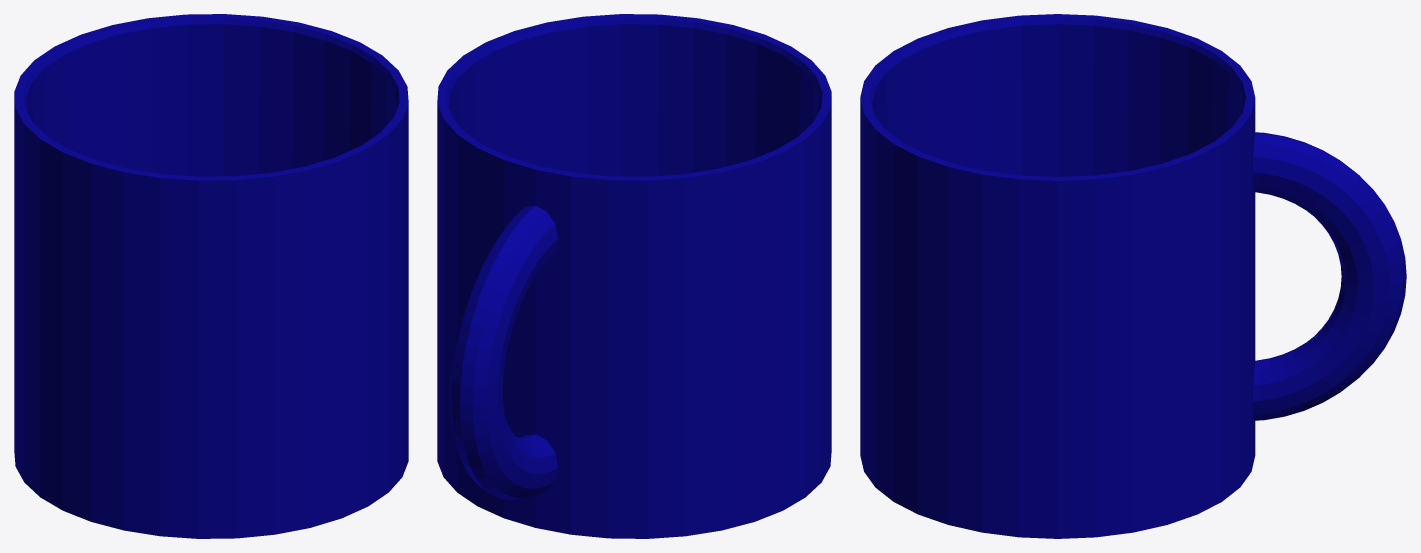
The model's file is cup.fbx.
3 renders of one model, left to right at view 1: azimuth 30°, elevation 25°; view 2: azimuth 150°, elevation 25°; view 3: azimuth 270°, elevation 25°, orthographic.
Parts seen in each view (by area): view 1: Cylinder; view 2: Cylinder; view 3: Cylinder.
Part boxes in pixels (x1,y1,x2,y2): Cylinder: (14, 14, 408, 538); Cylinder: (437, 14, 831, 538); Cylinder: (860, 14, 1406, 538).
Bounding box in the file's own units: 2122 × 2122 × 2936.
